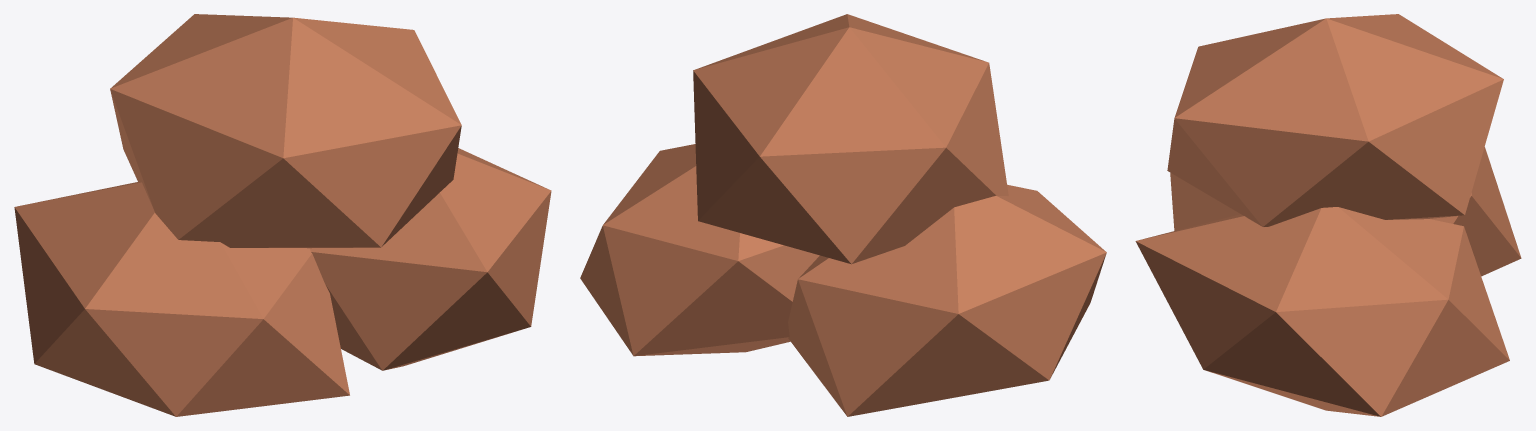
The model's file is clay.glb.
The picture shows the model from 3 angles, left to right: view 1: azimuth 30°, elevation 25°; view 2: azimuth 150°, elevation 25°; view 3: azimuth 270°, elevation 25°; orthographic projection. The views are drawn at different scales.
Parts seen in each view (by area): view 1: clay / Clay and fired brick; view 2: clay / Clay and fired brick; view 3: clay / Clay and fired brick.
Part boxes in pixels (bbox=[...]): clay / Clay and fired brick: bbox=[14, 14, 551, 416]; clay / Clay and fired brick: bbox=[580, 14, 1106, 416]; clay / Clay and fired brick: bbox=[1135, 14, 1521, 416].
Bounding box in the file's own units: 0.2487 × 0.1782 × 0.1818.
